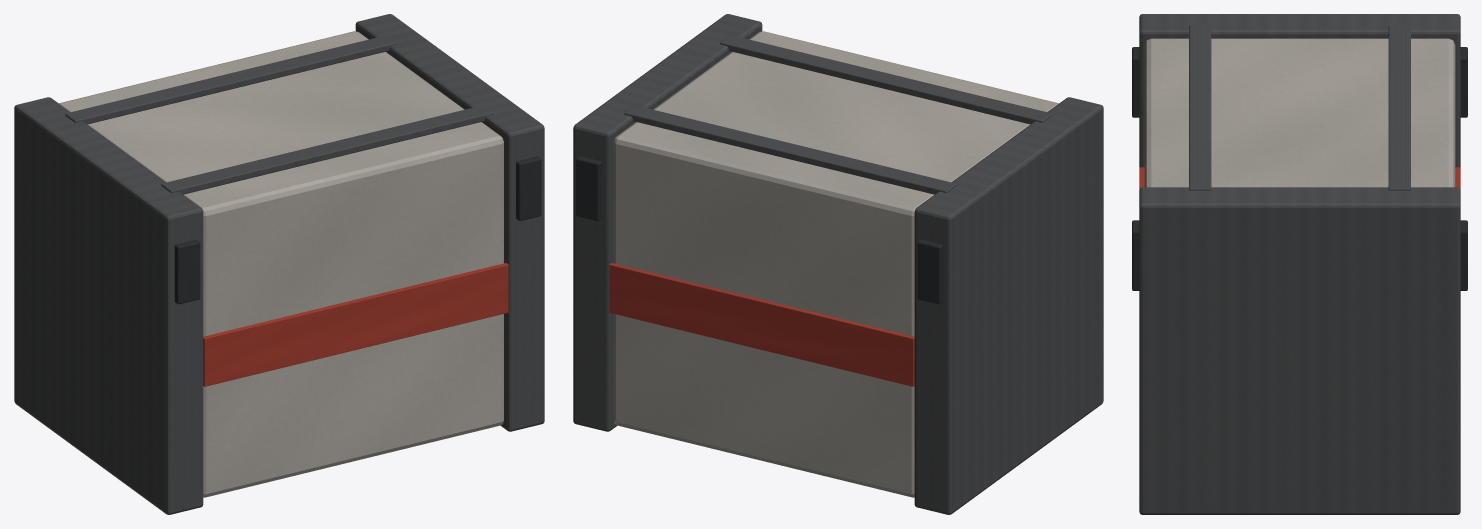
Rendered from technical_container.glb.
3 views of the same model, side by side, from view 1: azimuth 30°, elevation 25°; view 2: azimuth 150°, elevation 25°; view 3: azimuth 270°, elevation 25° (orthographic). The views are drawn at different scales.
Parts seen in each view (by area): view 1: container_shell.001, end_cap, end_cap.001, red_band_front, top_rail.003, top_rail.004, latch, latch.002; view 2: container_shell.001, end_cap, end_cap.001, red_band_back, top_rail.004, top_rail.003, latch.001, latch.003; view 3: end_cap.001, container_shell.001, end_cap, top_rail.003, top_rail.004, latch, latch.001, latch.002, latch.003.
Part boxes in pixels (x1,y1,x2,y2): container_shell.001: (59,31,503,497); end_cap: (14,97,203,514); end_cap.001: (355,14,544,431); red_band_front: (203,263,508,386); top_rail.003: (161,105,493,194); top_rail.004: (65,35,397,124); latch: (174,239,200,304); latch.002: (516,156,541,220); container_shell.001: (614,31,1058,497); end_cap: (914,97,1103,514); end_cap.001: (573,14,762,431); red_band_back: (609,263,914,386); top_rail.004: (624,105,956,194); top_rail.003: (720,35,1052,124); latch.001: (917,239,943,304); latch.003: (576,156,601,220); end_cap.001: (1139,187,1460,514); container_shell.001: (1144,38,1455,187); end_cap: (1139,14,1460,167); top_rail.003: (1189,25,1211,190); top_rail.004: (1388,25,1410,190); latch: (1132,47,1139,117); latch.001: (1460,47,1467,117); latch.002: (1132,220,1139,290); latch.003: (1460,220,1467,290).
Size of the model in its own units: 0.82 by 0.624 by 0.606.
4 materials, 4 textured.
